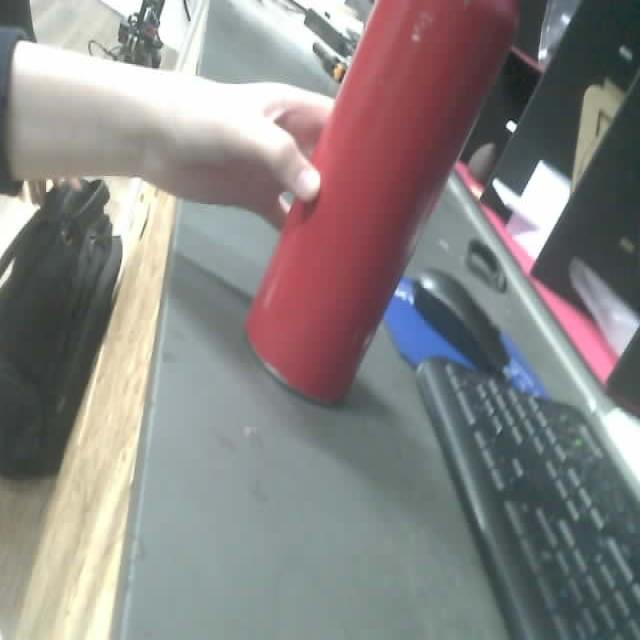water bottle: (244, 2, 517, 406)
